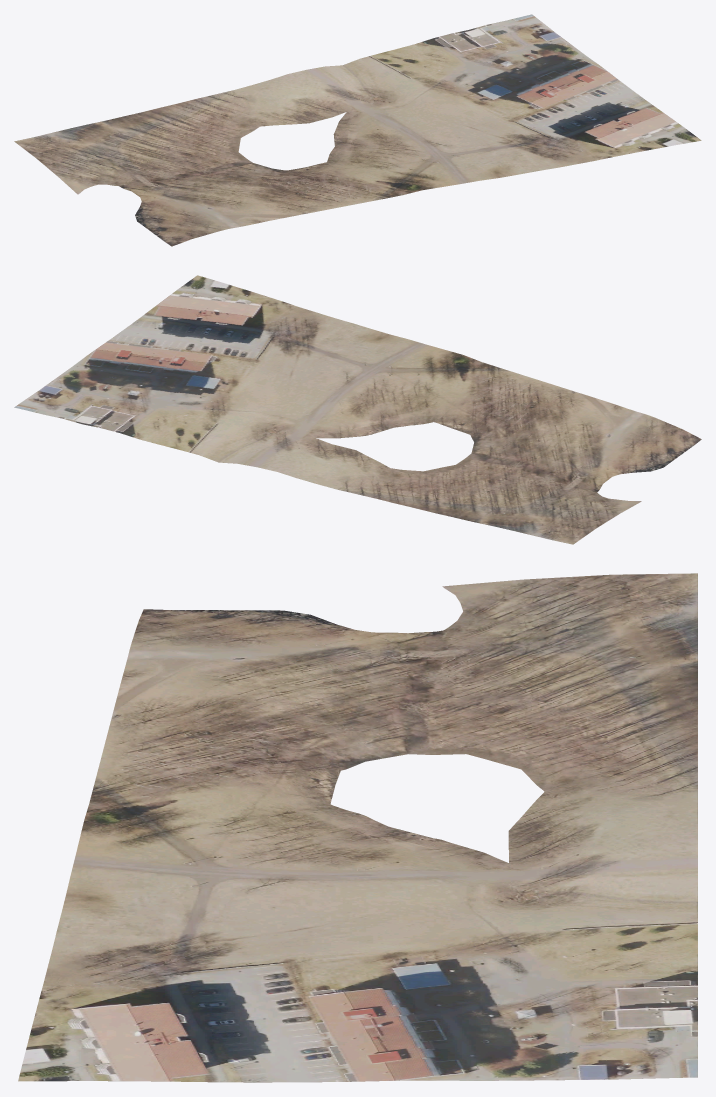
File: CM_Terrain_24486978_6818770.fbx
The picture shows the model from 3 angles, top to bottom: view 1: azimuth 30°, elevation 25°; view 2: azimuth 150°, elevation 25°; view 3: azimuth 270°, elevation 25°; orthographic projection. The views are drawn at different scales.
Visible parts, largest first — view 1: CM_Terrain_24486978_6818770_LOD0; view 2: CM_Terrain_24486978_6818770_LOD0; view 3: CM_Terrain_24486978_6818770_LOD0.
Boxes of the visible parts, bbox=[...] form: CM_Terrain_24486978_6818770_LOD0: bbox=[14, 14, 701, 246]; CM_Terrain_24486978_6818770_LOD0: bbox=[14, 275, 701, 544]; CM_Terrain_24486978_6818770_LOD0: bbox=[18, 573, 697, 1082].
Size of what is drawn, in the model's own units: 205 by 4.07 by 116.
